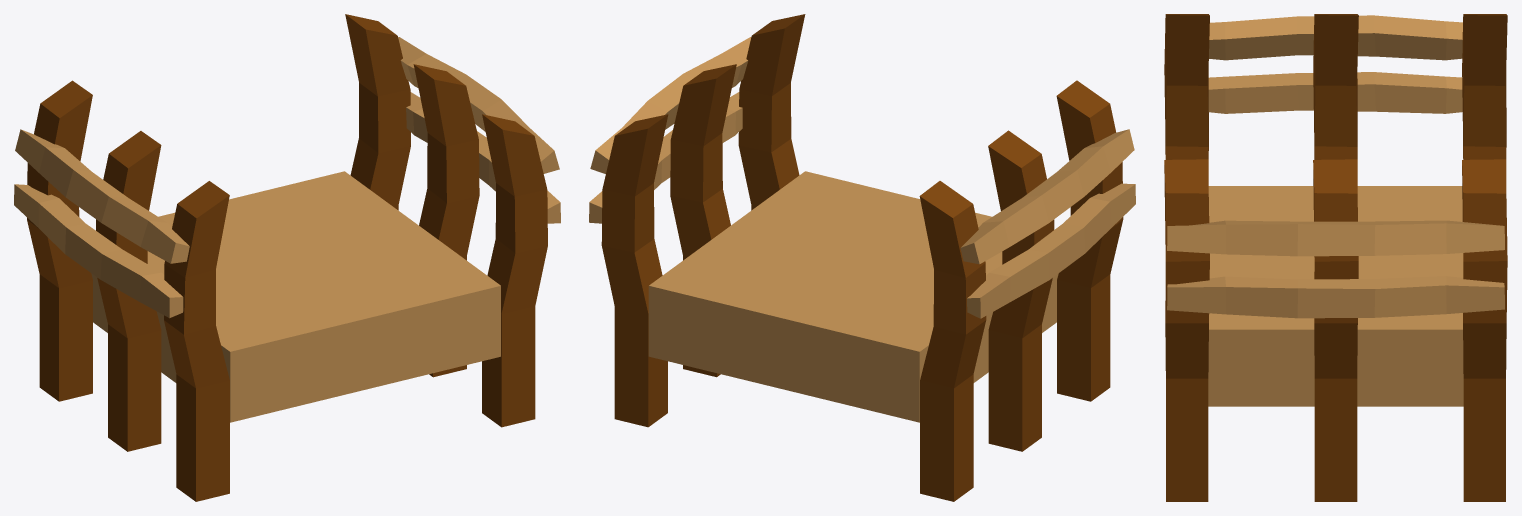
File: kopru1.fbx
The picture shows the model from 3 angles, left to right: view 1: azimuth 30°, elevation 25°; view 2: azimuth 150°, elevation 25°; view 3: azimuth 270°, elevation 25°; orthographic projection. The views are drawn at different scales.
Visible parts, largest first — view 1: Köprü1; view 2: Köprü1; view 3: Köprü1.
Part boxes in pixels (bbox=[...]): Köprü1: bbox=[14, 14, 560, 501]; Köprü1: bbox=[589, 14, 1135, 501]; Köprü1: bbox=[1164, 14, 1507, 501].
Bounding box in the file's own units: 302 × 211 × 202.
